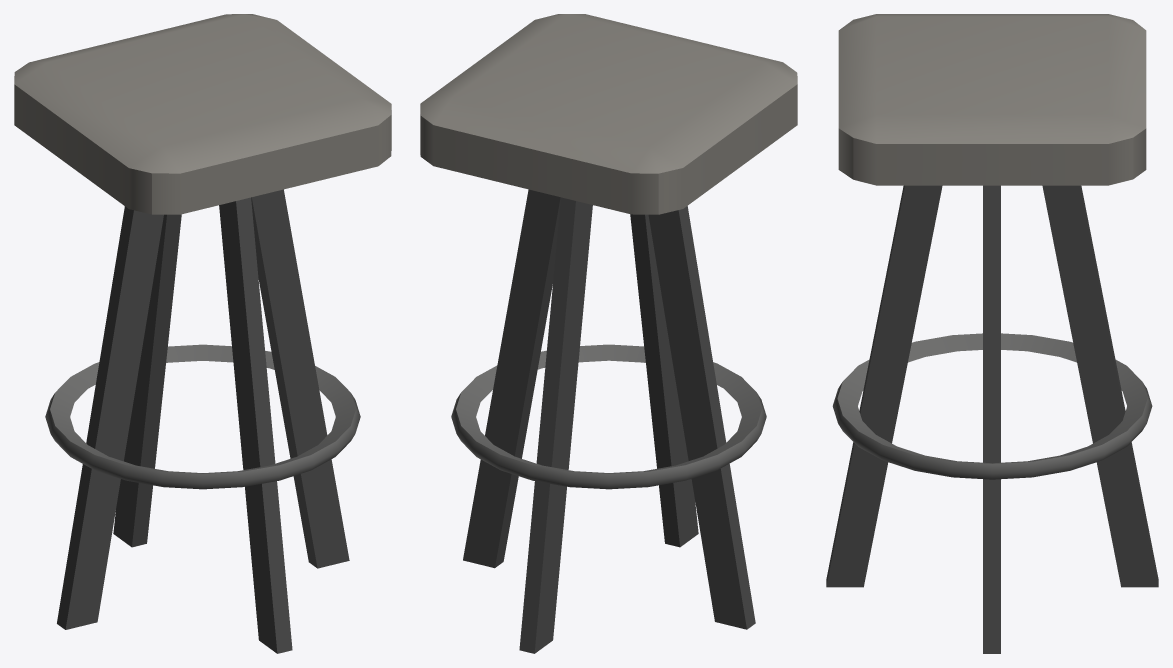
Rendered from Sushi_booth_chair.fbx.
The picture shows the model from 3 angles, left to right: view 1: azimuth 30°, elevation 25°; view 2: azimuth 150°, elevation 25°; view 3: azimuth 270°, elevation 25°; orthographic projection.
Parts seen in each view (by area): view 1: pTorus2; view 2: pTorus2; view 3: pTorus2.
Boxes of the visible parts, x1=… form: pTorus2: x1=14, y1=14, x2=391, y2=653; pTorus2: x1=420, y1=14, x2=797, y2=653; pTorus2: x1=826, y1=14, x2=1158, y2=653.
Size of the model in its own units: 23.58 by 40.56 by 23.58.
